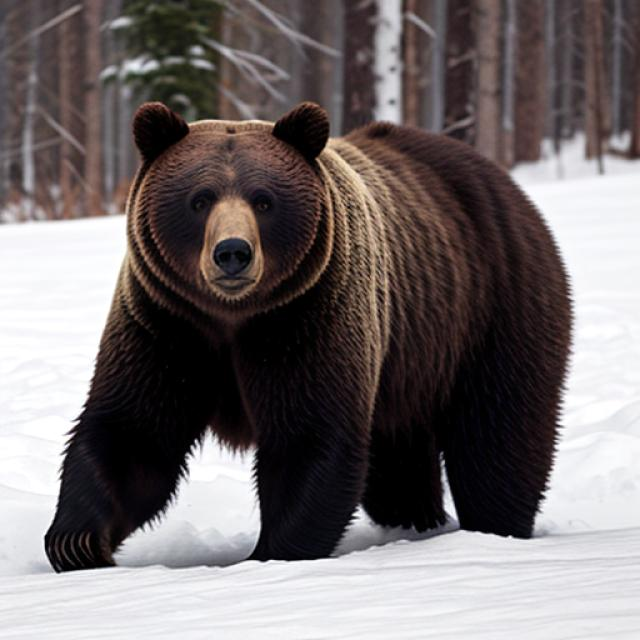bear: (139, 106, 348, 332)
